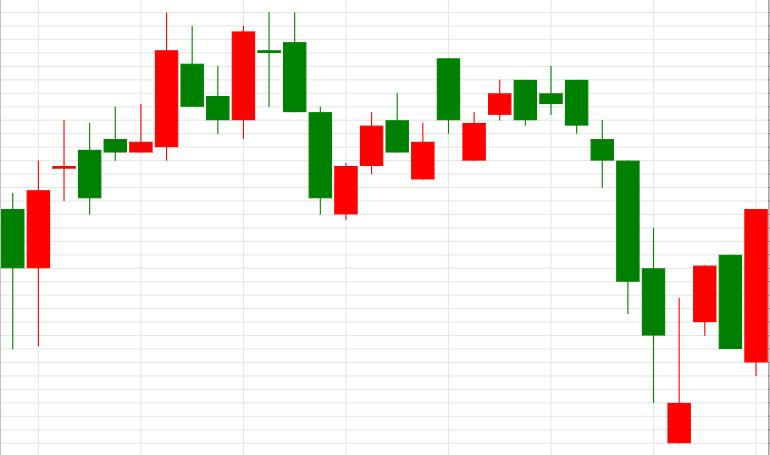inverse_hammer_rise: (539, 66, 691, 442)
